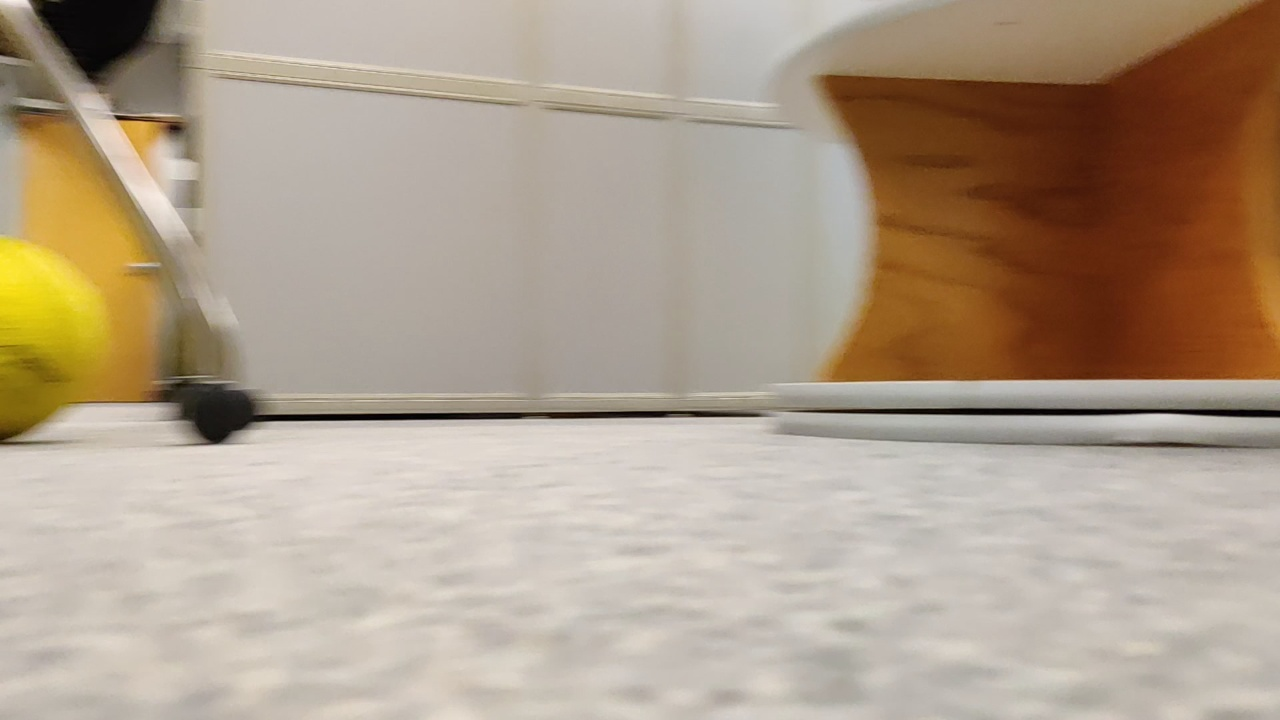Ball: (1, 228, 111, 439)
